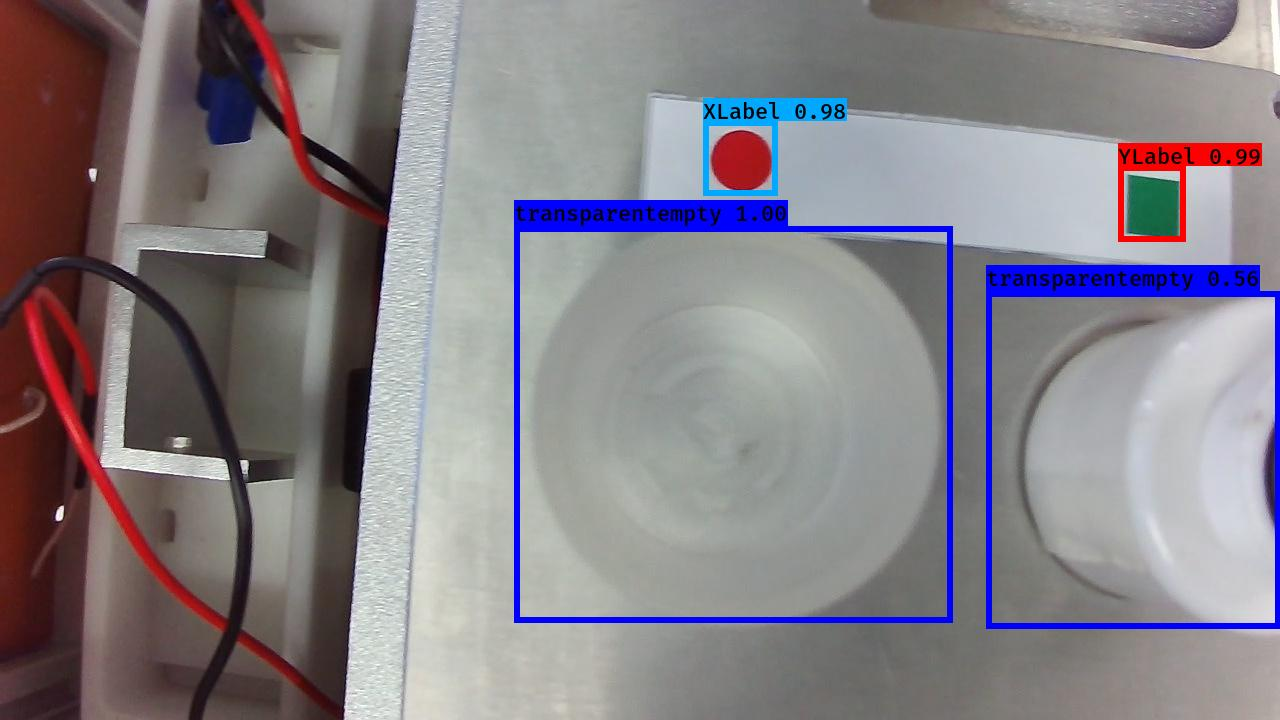XLabel: (709, 124, 777, 194)
YLabel: (1121, 172, 1185, 242)
transparentempty: (523, 221, 947, 635)
whiteempty: (1023, 268, 1280, 634)
